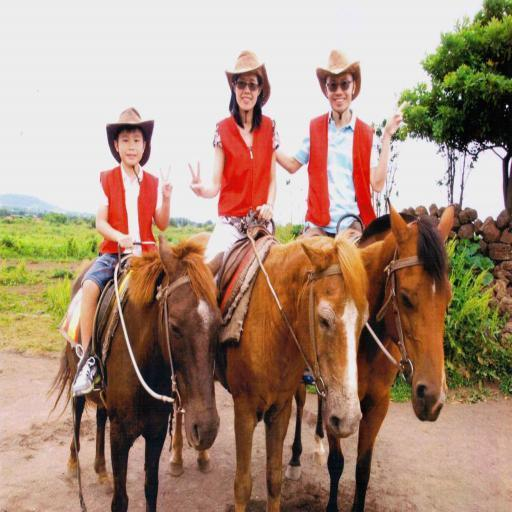horse: (168, 226, 386, 512), (293, 194, 456, 512), (46, 234, 226, 512)
